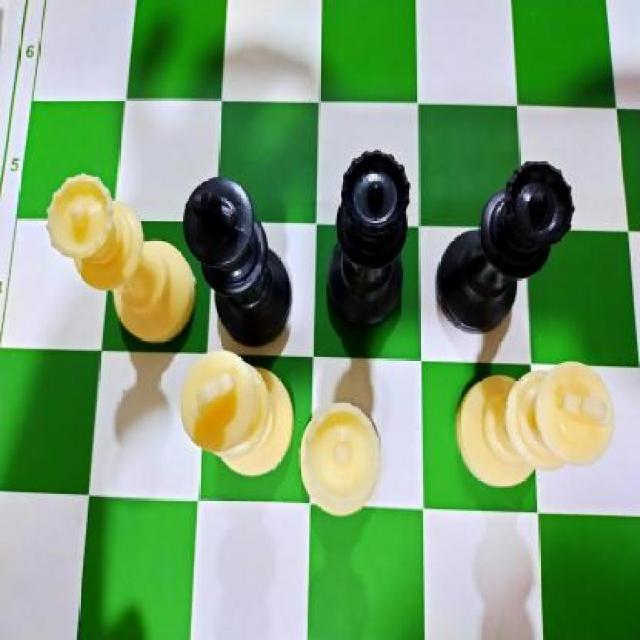black-king: (181, 169, 294, 348)
black-queen: (432, 152, 580, 338), (323, 145, 414, 344)
white-king: (452, 358, 618, 493), (178, 343, 294, 479)
white-queen: (40, 170, 197, 348), (297, 390, 385, 522)
